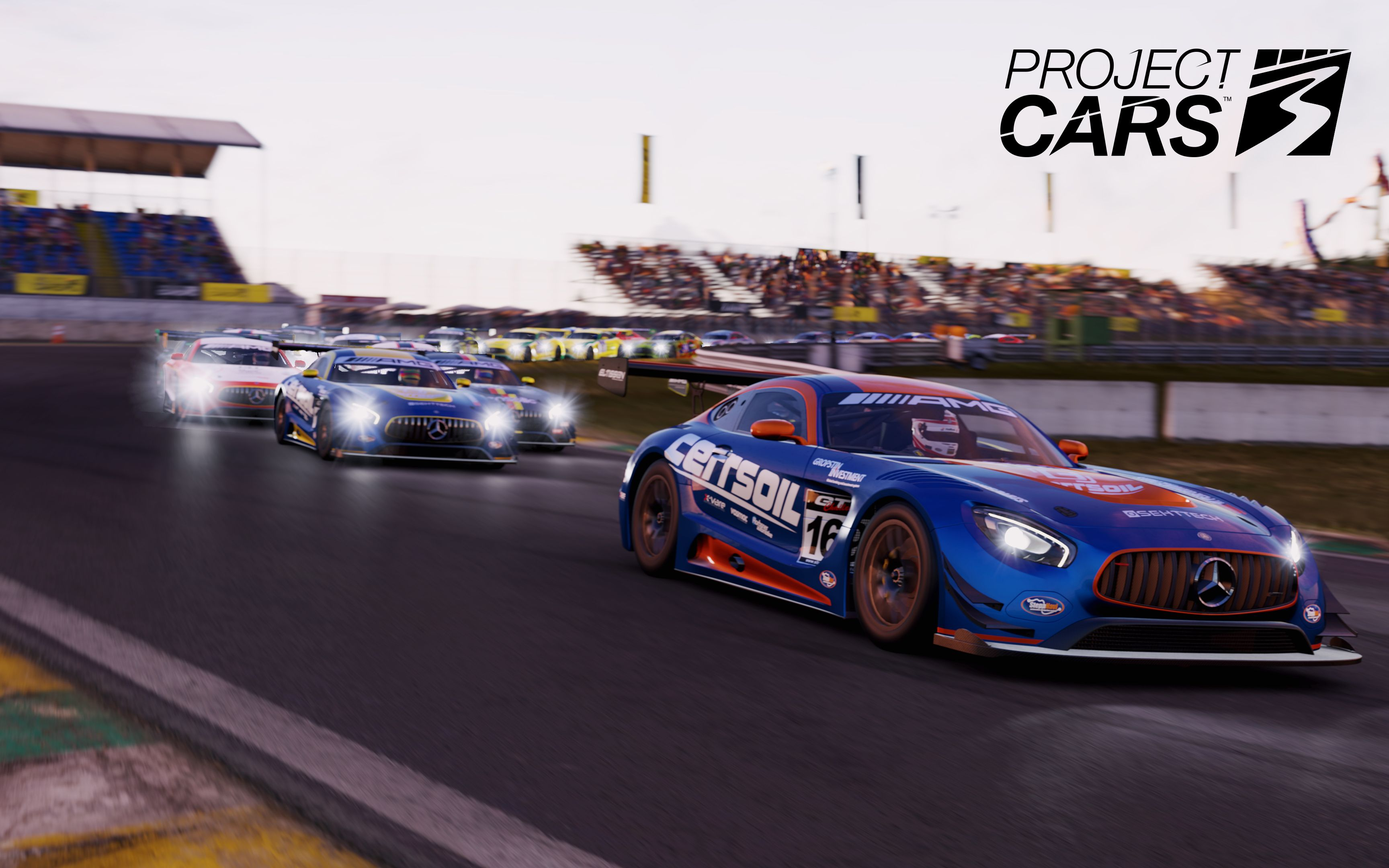other: (594, 344, 1366, 676), (272, 339, 506, 481), (421, 347, 577, 453), (159, 325, 302, 428)
